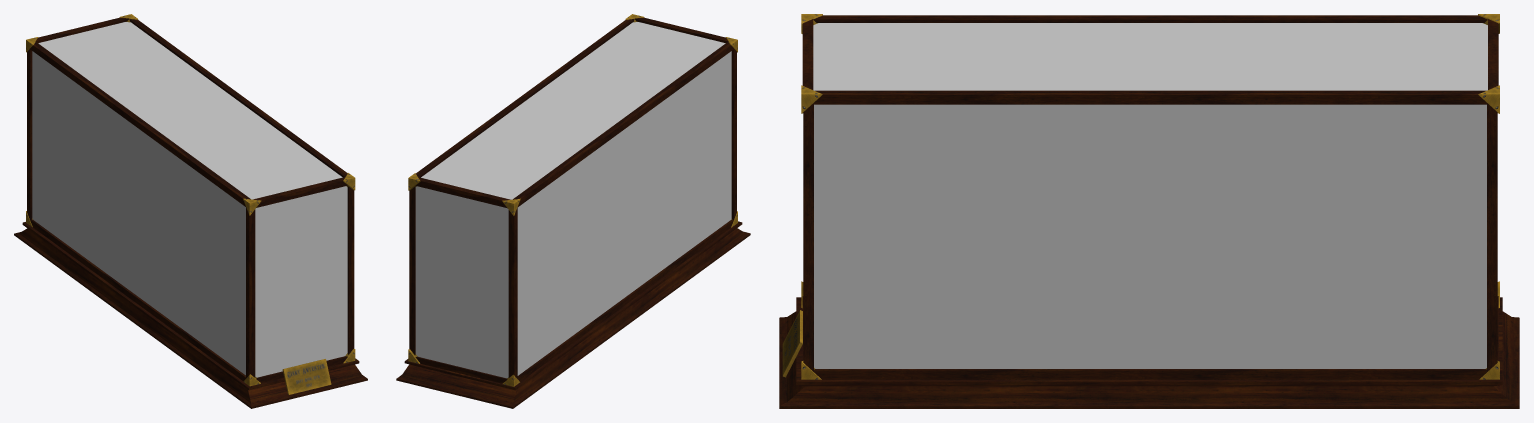
Rendered from giant_anteater.DAE.
3 renders of one model, left to right at view 1: azimuth 30°, elevation 25°; view 2: azimuth 150°, elevation 25°; view 3: azimuth 270°, elevation 25°, orthographic. The views are drawn at different scales.
Parts seen in each view (by area): view 1: Box005, Object002; view 2: Box005, Object002; view 3: Box005, Object002.
Boxes of the visible parts, x1,y1,x2,y2 form: Box005: [32, 22, 347, 377]; Object002: [14, 14, 367, 408]; Box005: [415, 22, 731, 378]; Object002: [396, 14, 750, 408]; Box005: [813, 23, 1487, 368]; Object002: [779, 14, 1519, 408].
Bounding box in the file's own units: 1.22 × 1.99 × 4.3.
